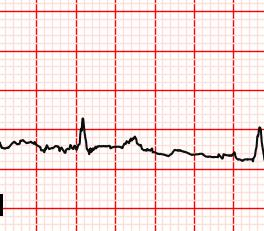Poor R Progression: (69, 113, 89, 154)
